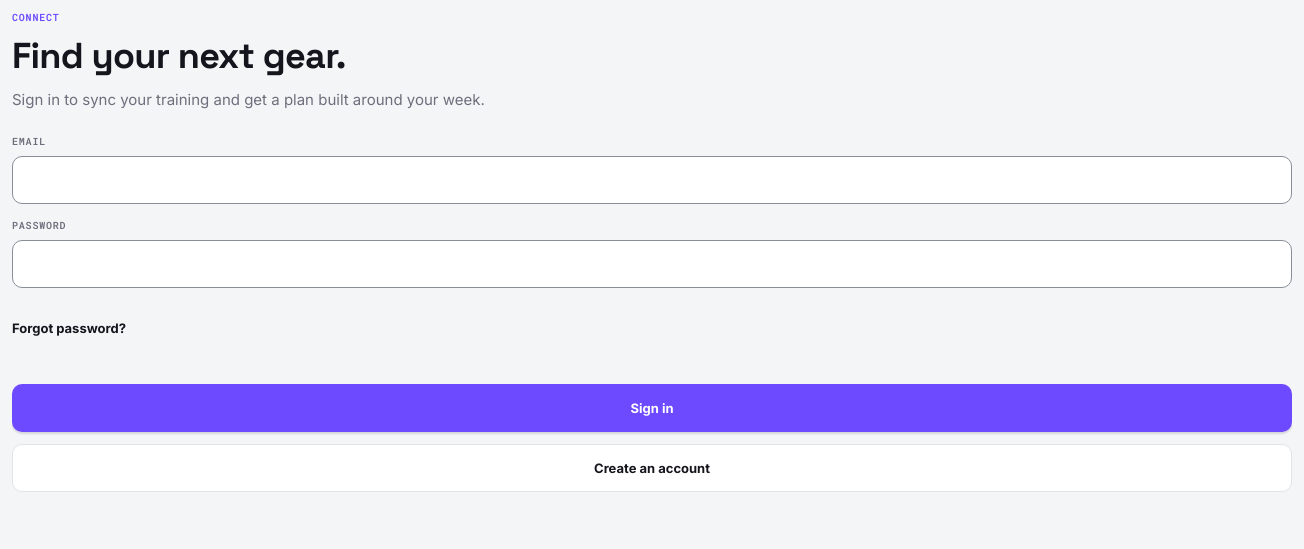
LoginForm › explains a rejected sign-in without clearing what was typed
In the field labelled "Email": [652, 180] box x1=12 y1=156 x2=1292 y2=204, type "alex@stridevolt.test"
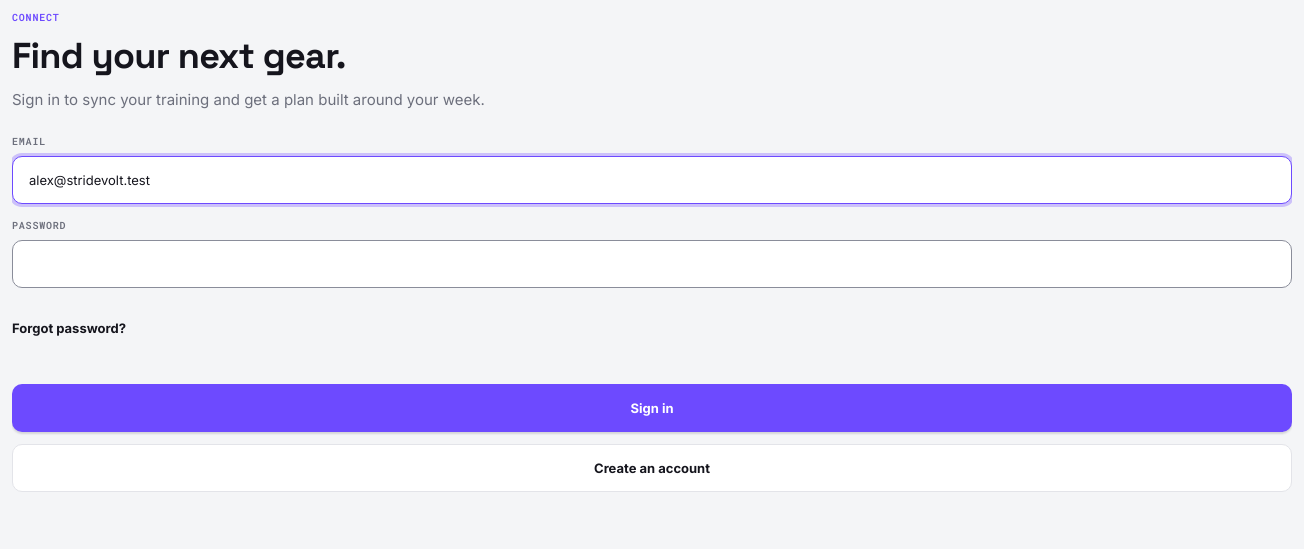
In the password field labelled "Password": [652, 264] box x1=12 y1=240 x2=1292 y2=288, type "wrong-password"
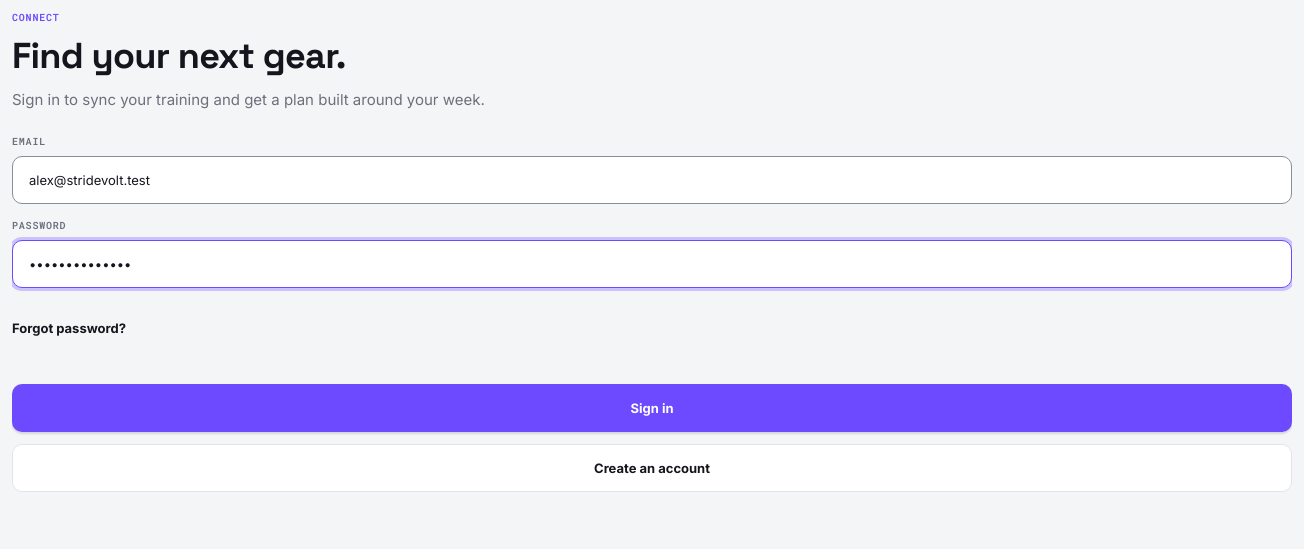
Click the button "Sign in": [652, 408] box x1=12 y1=384 x2=1292 y2=432
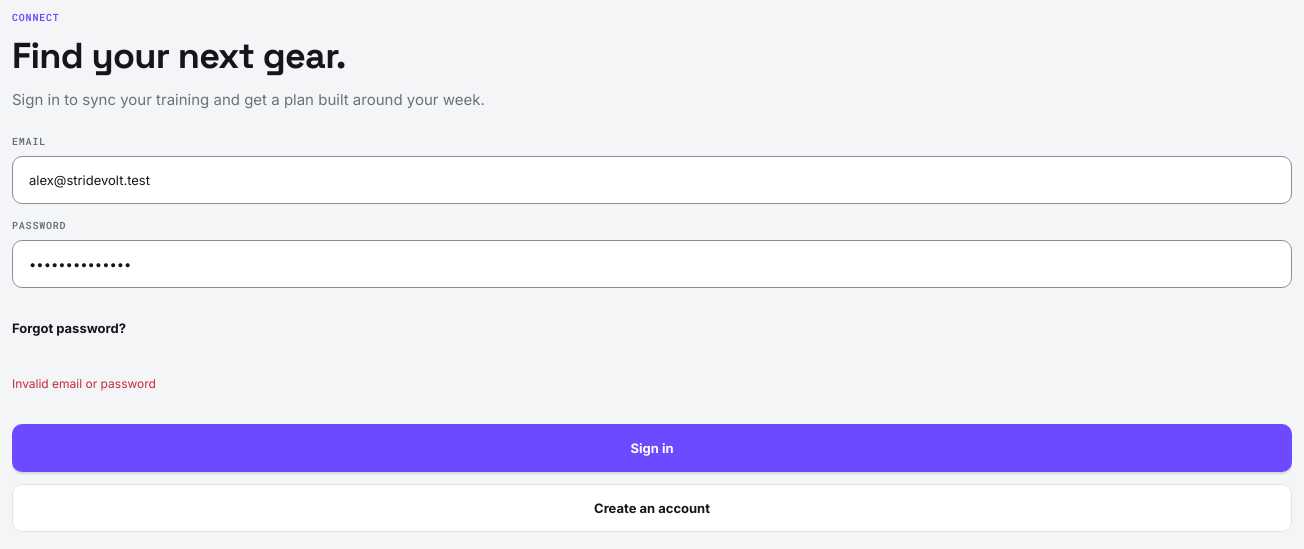
Check: the message reads "Invalid email or password", box x1=12 y1=376 x2=156 y2=391
